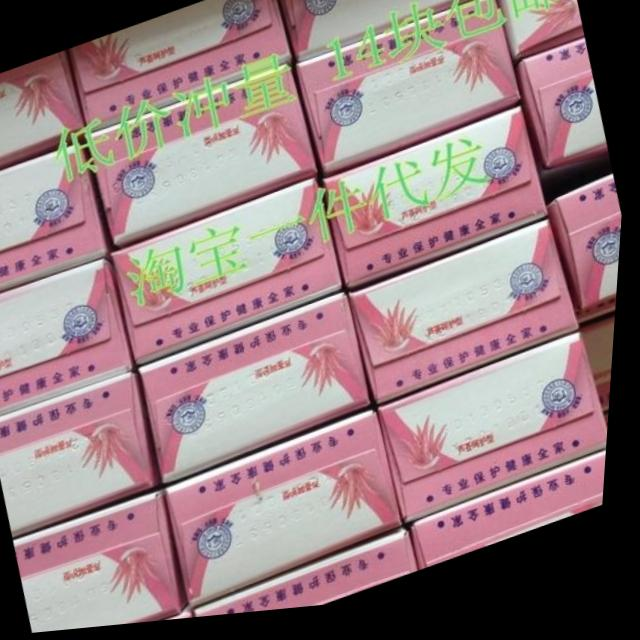box: (170, 416, 412, 614), (140, 296, 376, 492), (113, 181, 350, 370), (383, 342, 615, 534), (353, 227, 586, 414), (88, 67, 317, 253), (295, 0, 526, 183), (324, 116, 550, 299), (71, 0, 292, 134), (0, 370, 171, 540), (20, 491, 197, 634), (418, 460, 613, 579), (0, 259, 142, 419), (201, 536, 426, 622), (0, 142, 115, 294), (278, 0, 496, 68), (516, 47, 612, 189), (549, 185, 625, 333), (0, 53, 89, 168), (497, 0, 586, 72), (585, 329, 620, 424)
